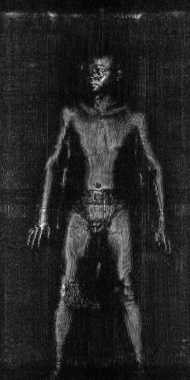gun: (64, 281, 98, 314)
